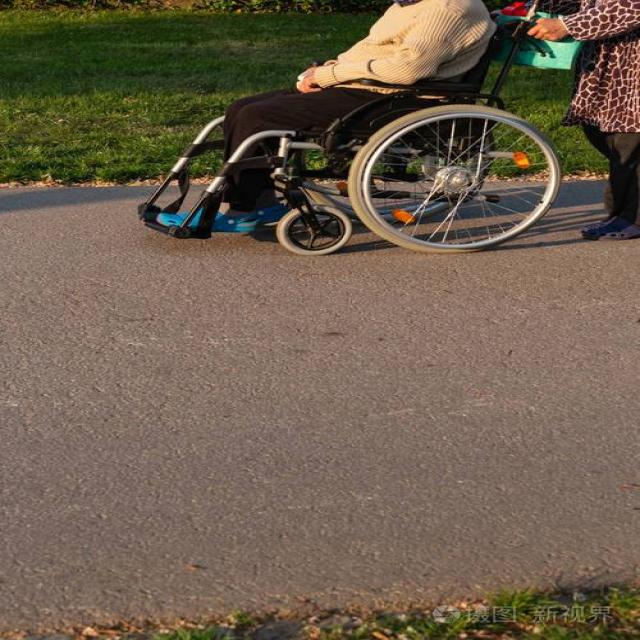wheelchairs: (109, 0, 586, 260)
